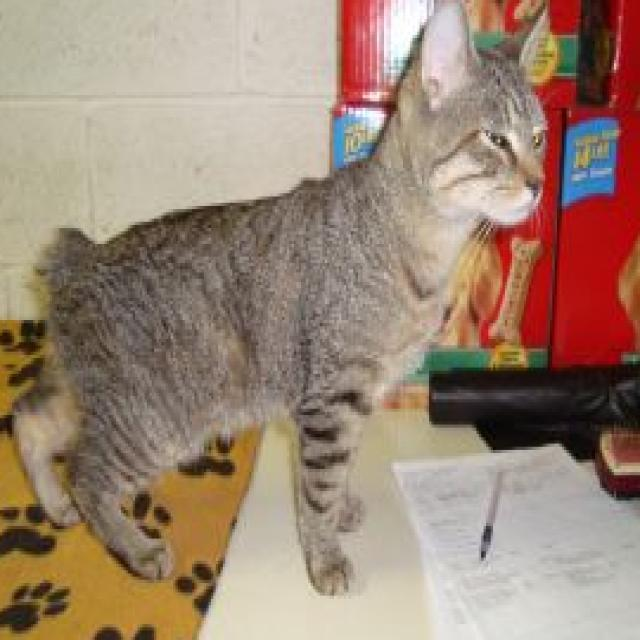American Bobtail: (7, 0, 552, 599)
